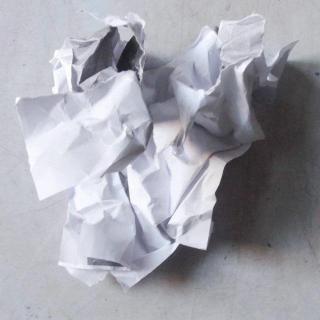Anorganik: (17, 8, 292, 294)
